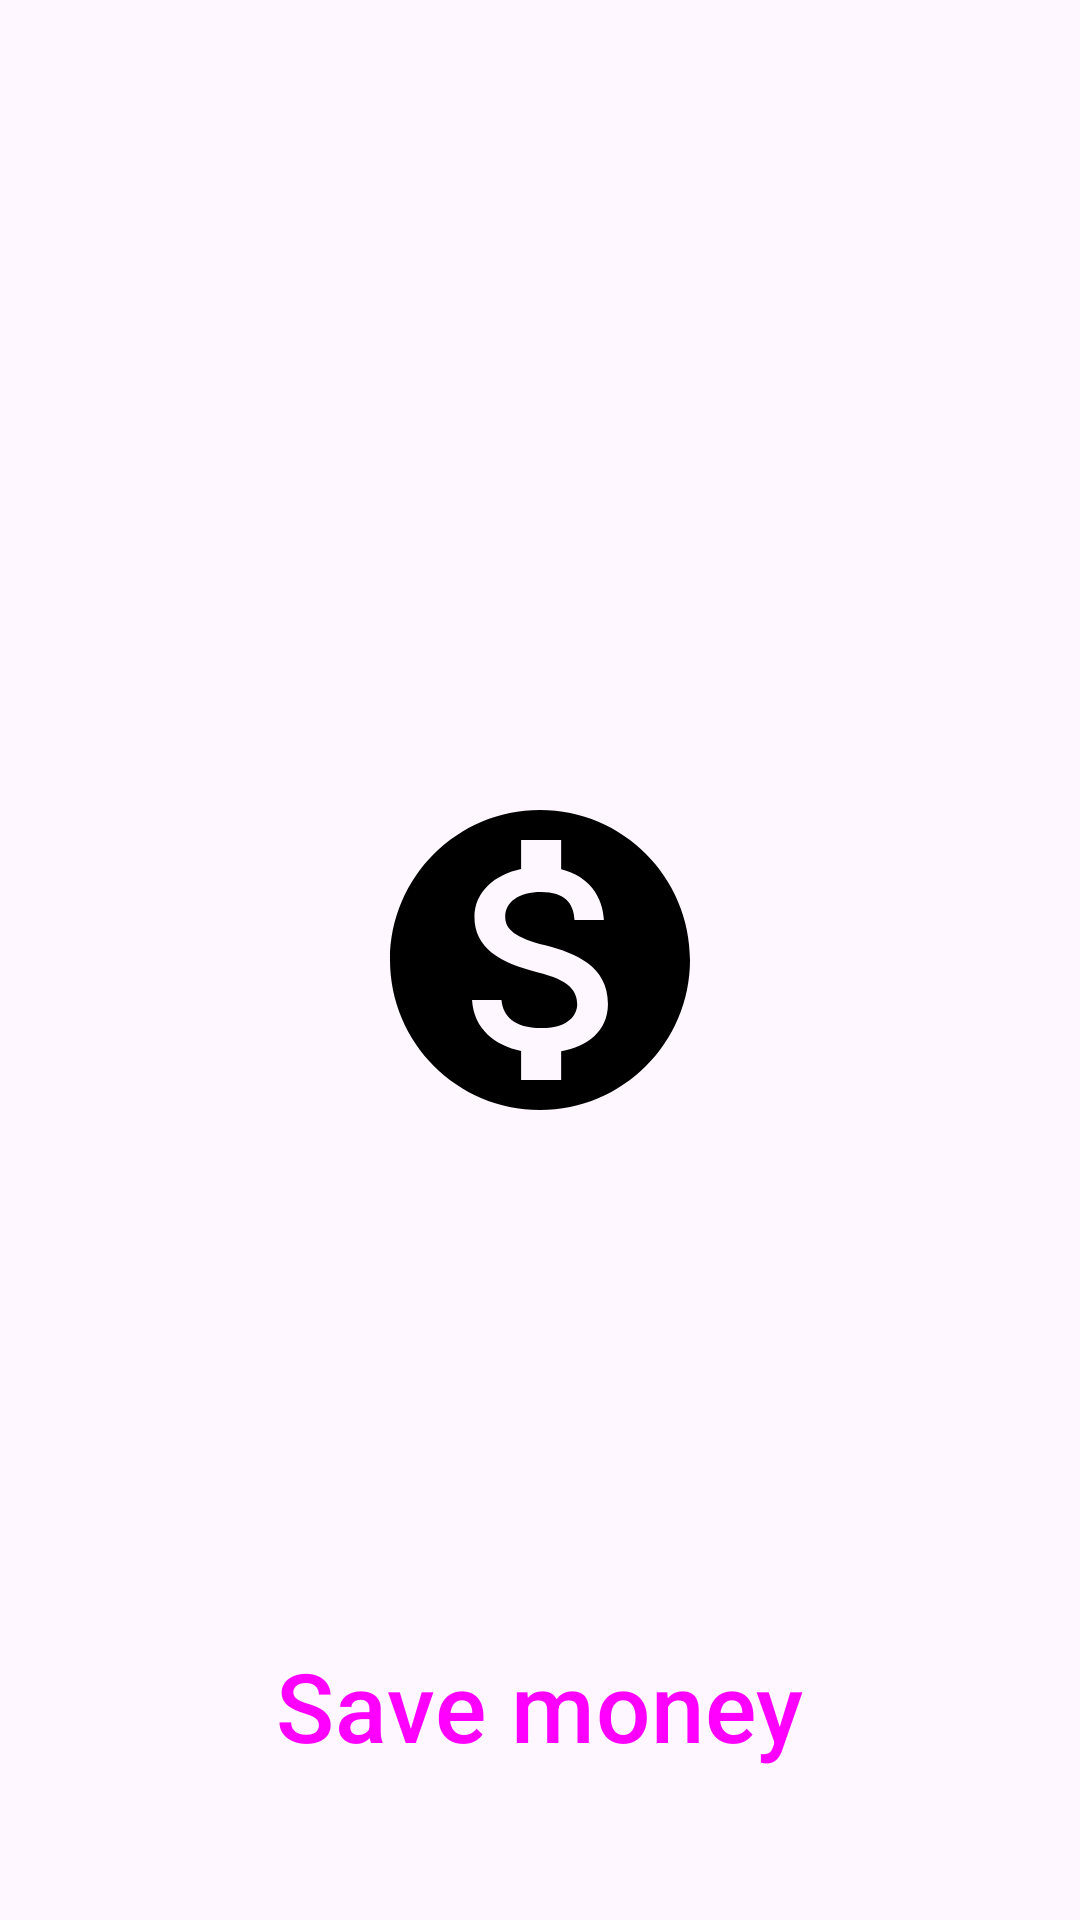

Icons on this 1080 x 1920 Android screen, each with the point to tap as [x,y]:
monetization on: [540,960]
